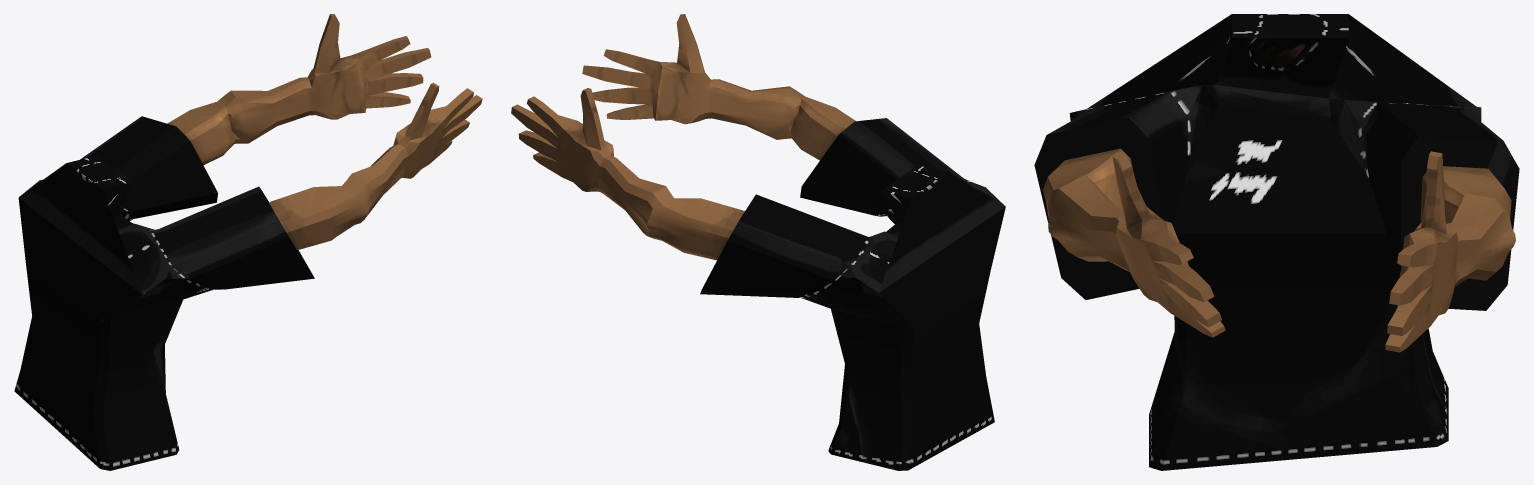
File: char_fp.glb
The picture shows the model from 3 angles, left to right: view 1: azimuth 30°, elevation 25°; view 2: azimuth 150°, elevation 25°; view 3: azimuth 270°, elevation 25°; orthographic projection. The views are drawn at different scales.
Parts seen in each view (by area): view 1: shirt; view 2: shirt; view 3: shirt.
Part boxes in pixels (box(x1,y1,x2,y2)): shirt: box(14, 14, 482, 470); shirt: box(511, 14, 1005, 470); shirt: box(1034, 14, 1519, 470).
Size of the model in its own units: 0.8347 by 0.6255 by 0.5395.
Materials: 2 (2 with a texture image).
